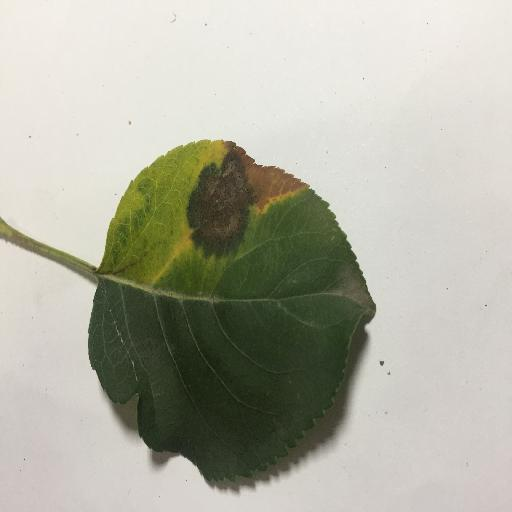Brown_Spot: (173, 150, 268, 255)
